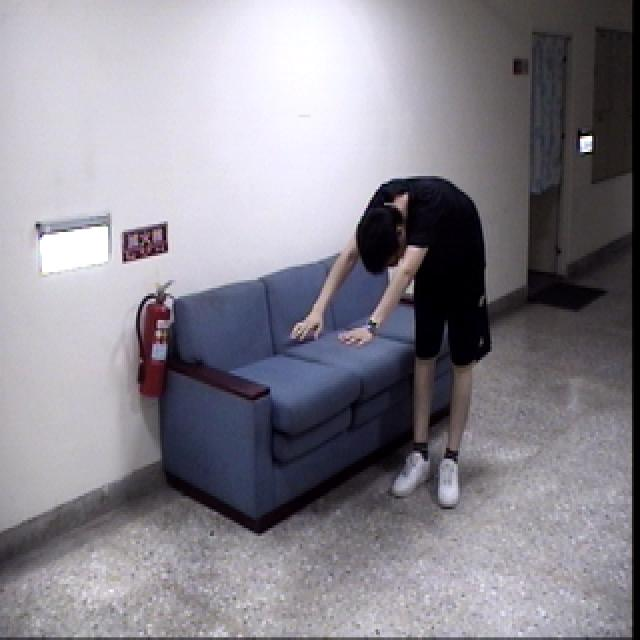bend: (287, 170, 504, 511)
